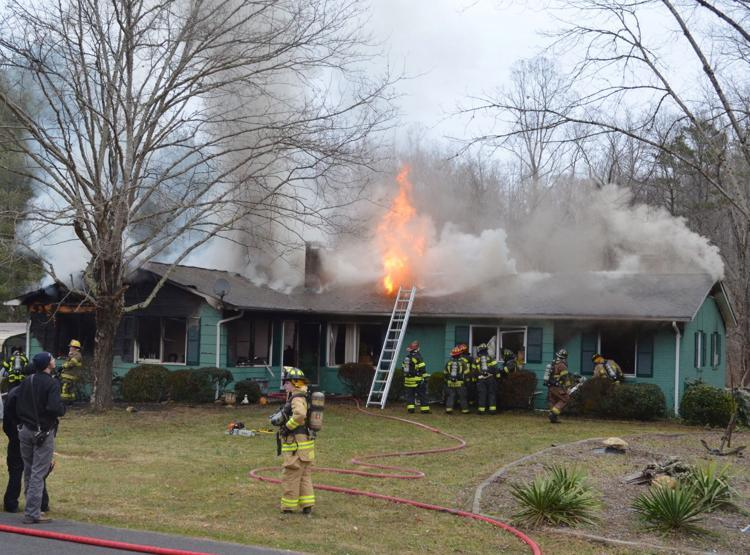fire: (376, 165, 423, 297)
smoke: (426, 180, 729, 294), (240, 157, 375, 293), (154, 113, 241, 271), (15, 101, 86, 284), (122, 229, 151, 279)
